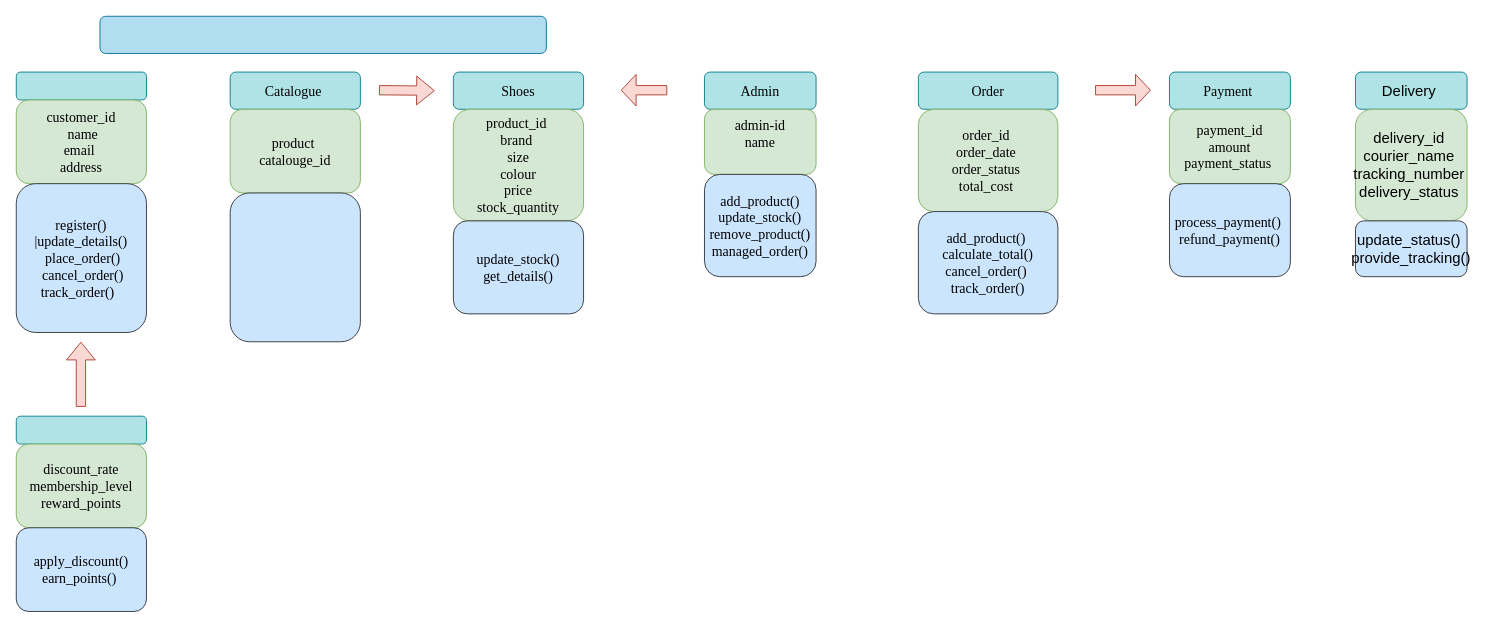
Some shapes in this 1486 by 628 pixel diagram are drawn without their labels. Each missing label, with the centre of its shape:
"browse() search_product() view_product_details()" goes at [294,267].
"Customer" goes at [80,85].
"Premium Customer" goes at [80,429].
"The St James's Shoe Company Online Shopping System" goes at [322,34].
